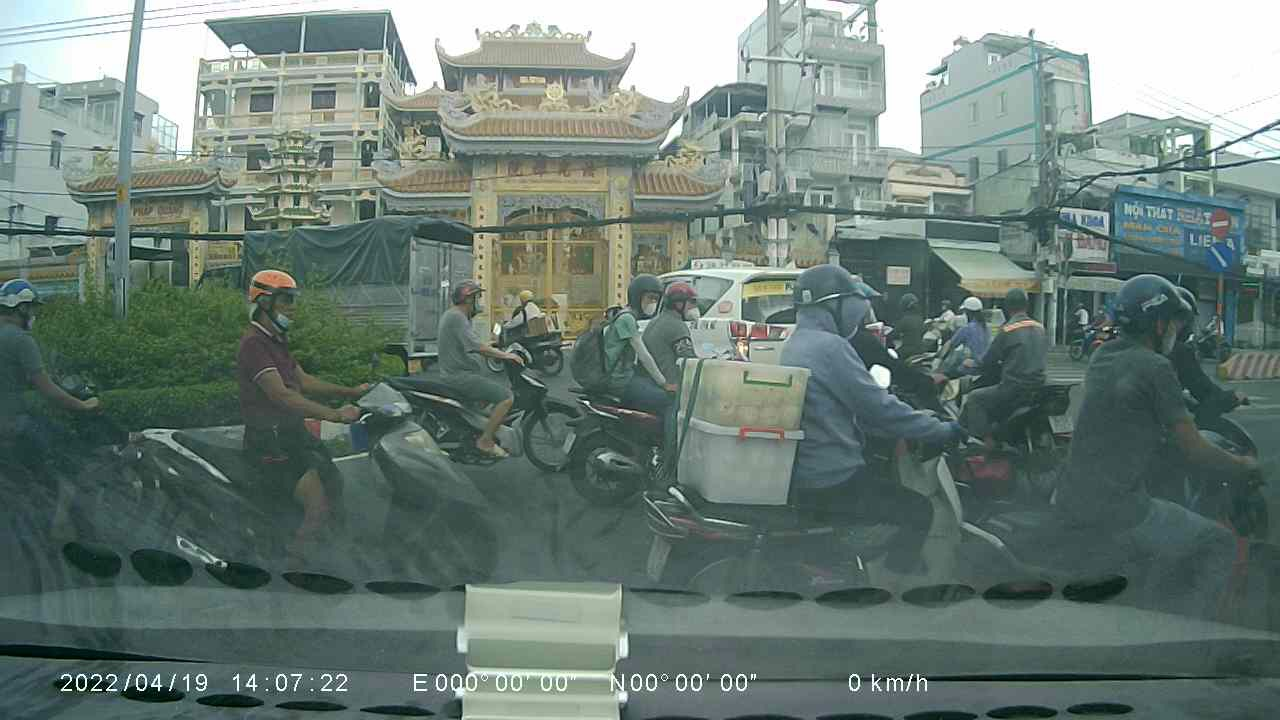Cam di nguoc chieu: (1206, 209, 1233, 240)
Huong di phai re phai: (1205, 241, 1238, 273)
